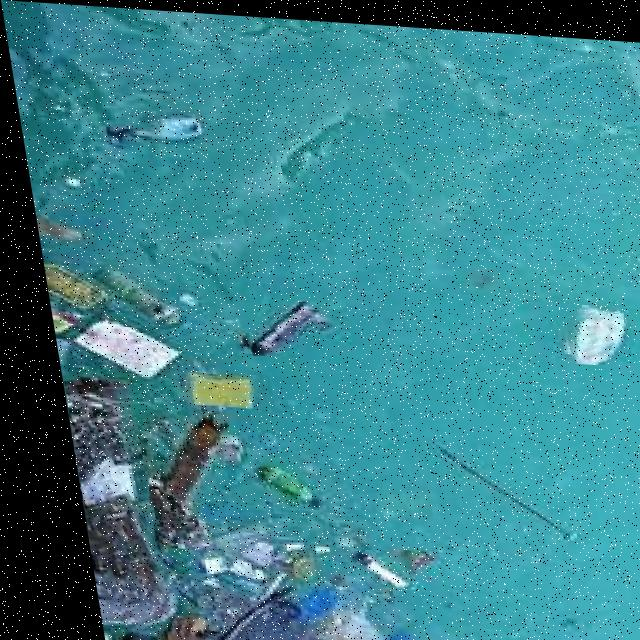litter: (51, 384, 143, 629), (132, 411, 211, 504), (93, 266, 169, 328), (240, 296, 303, 353), (564, 305, 614, 357), (173, 373, 242, 406), (115, 110, 193, 135), (254, 469, 307, 502), (340, 553, 396, 584), (28, 212, 70, 242), (152, 615, 184, 640)
